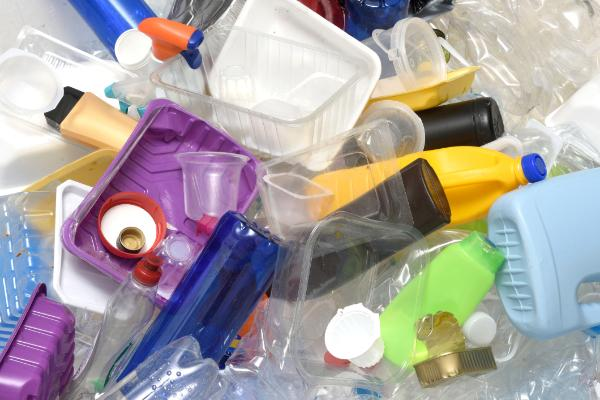plastic_bottle: (256, 117, 584, 276), (134, 188, 362, 395), (21, 226, 196, 400), (49, 260, 246, 400), (472, 144, 600, 344)
